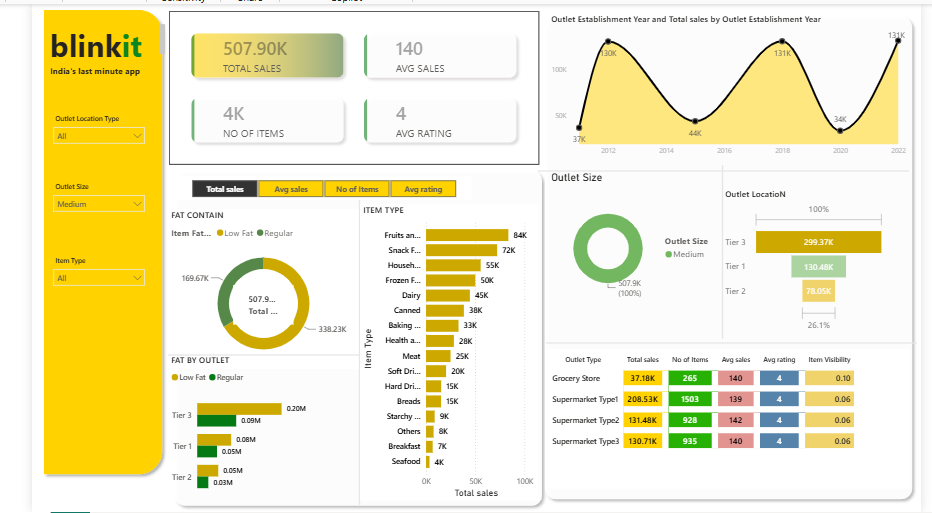

What the dashboard file says about the page in this screenshot:
{"tool":"powerbi","page":{"name":"Page 1","canvas":[1400,800],"ordinal":0},"visuals":[{"type":"shape","box":[10,0,205,750],"z":0},{"type":"textbox","box":[23.6,26.8,190.6,64.6],"z":1000},{"type":"textbox","box":[23.6,91.3,163.8,26.8],"z":2000},{"type":"cardVisual","fields":{"Data":["BlinkIT Grocery Data.Total sales","BlinkIT Grocery Data.Avg sales","BlinkIT Grocery Data.No of Items","BlinkIT Grocery Data.Avg rating"]},"box":[215.1,11.7,582.7,242.5],"z":3000},{"type":"shape","box":[215.1,254.2,596.4,545.5],"z":4000},{"type":"donutChart","title":"FAT CONTAIN","fields":{"Y":["BlinkIT Grocery Data.Total sales"],"Category":["BlinkIT Grocery Data.Item Fat Content"]},"box":[214.2,322.8,300.8,252],"z":5000},{"type":"slicer","fields":{"Values":["Metrics.Metrics"]},"box":[226.8,270.9,464.6,37.8],"z":6000},{"type":"cardVisual","fields":{"Data":["BlinkIT Grocery Data.Total sales"]},"box":[311.8,437.8,105.5,72.4],"z":7000},{"type":"clusteredBarChart","title":"FAT BY OUTLET","fields":{"Y":["BlinkIT Grocery Data.Total sales"],"Category":["BlinkIT Grocery Data.Outlet Location Type"],"Series":["BlinkIT Grocery Data.Item Fat Content"]},"box":[214.2,551.2,245.7,237.8],"z":7001},{"type":"shape","box":[214.2,543.3,300.8,18.9],"z":7002},{"type":"shape","box":[500.8,308.7,29.9,480.3],"z":7003},{"type":"barChart","title":"ITEM TYPE","fields":{"Category":["BlinkIT Grocery Data.Item Type"],"Y":["BlinkIT Grocery Data.Total sales"]},"box":[516.2,314.8,281.6,467.3],"z":7004},{"type":"shape","box":[798.4,11,596.9,778],"z":7005},{"type":"lineChart","title":"Outlet Establishment Year and Total sales by Outlet Establishment Year","fields":{"Category":["BlinkIT Grocery Data.Outlet Establishment Year"],"Y":["BlinkIT Grocery Data.Total sales"]},"box":[812.6,14.2,568.5,234.6],"z":7006},{"type":"shape","box":[796.9,253.5,584.3,18.9],"z":7007},{"type":"donutChart","title":"Outlet Size","fields":{"Y":["BlinkIT Grocery Data.Total sales"],"Category":["BlinkIT Grocery Data.Outlet Size"]},"box":[812.6,263,275,225],"z":7008},{"type":"shape","box":[1072.4,253.5,29.9,274],"z":7009},{"type":"funnel","title":" Outlet LocatioN","fields":{"Category":["BlinkIT Grocery Data.Outlet Location Type"],"Y":["Sum(BlinkIT Grocery Data.Sales)"]},"box":[1087.2,289.4,261,230],"z":7010},{"type":"shape","box":[809.4,524.4,584.3,18.9],"z":7012},{"type":"pivotTable","fields":{"Rows":["BlinkIT Grocery Data.Outlet Type"],"Values":["BlinkIT Grocery Data.Total sales","BlinkIT Grocery Data.No of Items","BlinkIT Grocery Data.Avg sales","BlinkIT Grocery Data.Avg rating","Avg(BlinkIT Grocery Data.Item Visibility)"]},"box":[809.4,543.3,571.7,220.5],"z":7013},{"type":"slicer","fields":{"Values":["BlinkIT Grocery Data.Outlet Location Type"]},"box":[23.5,166.2,164.2,66.5],"z":7014},{"type":"slicer","fields":{"Values":["BlinkIT Grocery Data.Outlet Size"]},"box":[23.5,273.7,164.2,66.5],"z":7015},{"type":"slicer","fields":{"Values":["BlinkIT Grocery Data.Item Type"]},"box":[23.5,391.1,164.2,66.5],"z":7016}]}

Visuals, with their boxes on the page's 1400x800 design canvas (x1, y1, x2, y2). These are canvas units, not pixel positions in the 932x513 screenshot, which may show the page scaled, cropped or inside an application window:
shape: left=10, top=0, right=215, bottom=750
textbox: left=24, top=27, right=214, bottom=91
textbox: left=24, top=91, right=187, bottom=118
cardVisual - BlinkIT Grocery Data.Total sales x BlinkIT Grocery Data.Avg sales: left=215, top=12, right=798, bottom=254
shape: left=215, top=254, right=812, bottom=800
"FAT CONTAIN" donutChart: left=214, top=323, right=515, bottom=575
slicer - Metrics.Metrics: left=227, top=271, right=691, bottom=309
cardVisual - BlinkIT Grocery Data.Total sales: left=312, top=438, right=417, bottom=510
"FAT BY OUTLET" clusteredBarChart: left=214, top=551, right=460, bottom=789
shape: left=214, top=543, right=515, bottom=562
shape: left=501, top=309, right=531, bottom=789
"ITEM TYPE" barChart: left=516, top=315, right=798, bottom=782
shape: left=798, top=11, right=1395, bottom=789
"Outlet Establishment Year and Total sales by Outlet Establishment Year" lineChart: left=813, top=14, right=1381, bottom=249
shape: left=797, top=254, right=1381, bottom=272
"Outlet Size" donutChart: left=813, top=263, right=1088, bottom=488
shape: left=1072, top=254, right=1102, bottom=528
" Outlet LocatioN" funnel: left=1087, top=289, right=1348, bottom=519
shape: left=809, top=524, right=1394, bottom=543
pivotTable - BlinkIT Grocery Data.Outlet Type x BlinkIT Grocery Data.Total sales: left=809, top=543, right=1381, bottom=764
slicer - BlinkIT Grocery Data.Outlet Location Type: left=24, top=166, right=188, bottom=233
slicer - BlinkIT Grocery Data.Outlet Size: left=24, top=274, right=188, bottom=340
slicer - BlinkIT Grocery Data.Item Type: left=24, top=391, right=188, bottom=458
